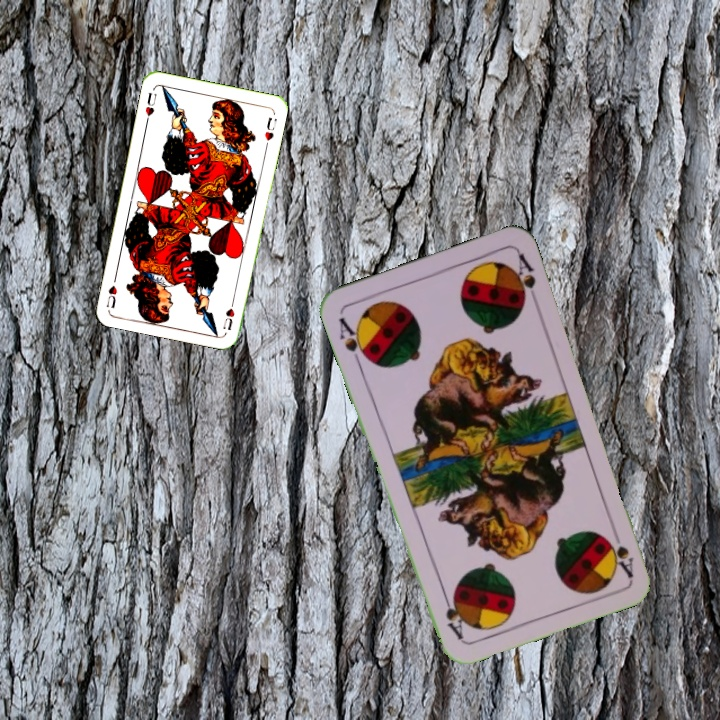HU: (219, 294, 238, 333), (141, 88, 159, 126)
SA: (334, 313, 372, 369), (605, 522, 636, 580)
